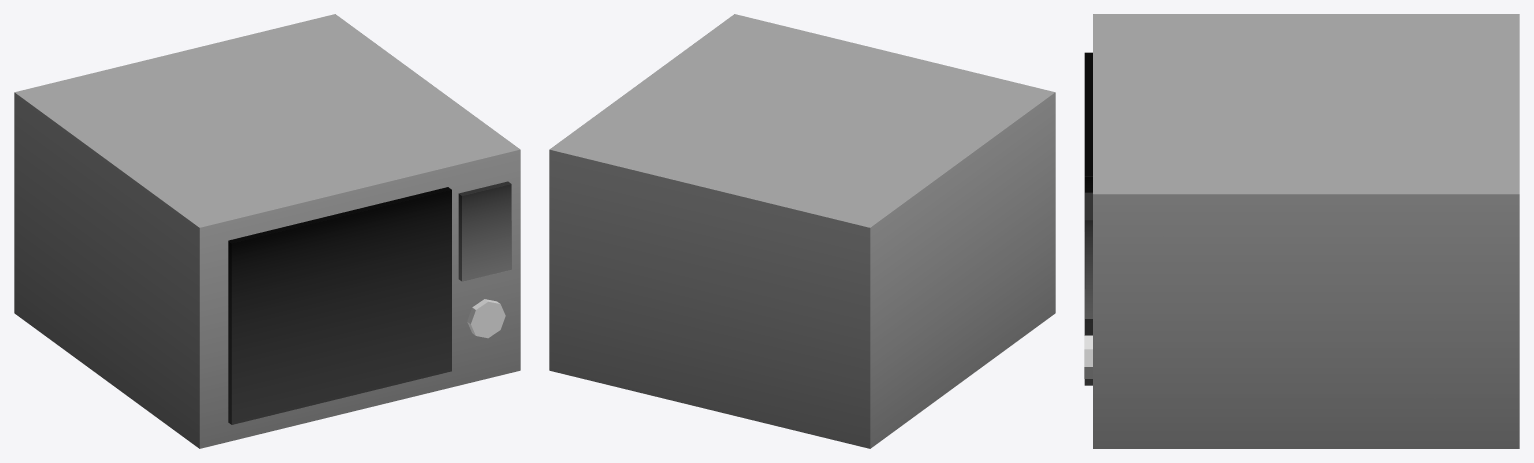
File: Microwave.glb
The picture shows the model from 3 angles, left to right: view 1: azimuth 30°, elevation 25°; view 2: azimuth 150°, elevation 25°; view 3: azimuth 270°, elevation 25°; orthographic projection. The views are drawn at different scales.
Visible parts, largest first — view 1: Cube.001, Cube, Cube.002, Cylinder; view 2: Cube.001; view 3: Cube.001, Cube, Cube.002.
Part boxes in pixels (bbox=[...]): Cube.001: bbox=[14, 14, 520, 448]; Cube: bbox=[228, 187, 451, 424]; Cube.002: bbox=[458, 181, 511, 281]; Cylinder: bbox=[467, 299, 505, 338]; Cube.001: bbox=[549, 14, 1055, 448]; Cube.001: bbox=[1093, 14, 1519, 448]; Cube: bbox=[1084, 52, 1092, 385]; Cube.002: bbox=[1085, 192, 1092, 318].
Size of the model in its own units: 2.43 by 1.6 by 2.48.
Materials: 4 (4 with a texture image).
